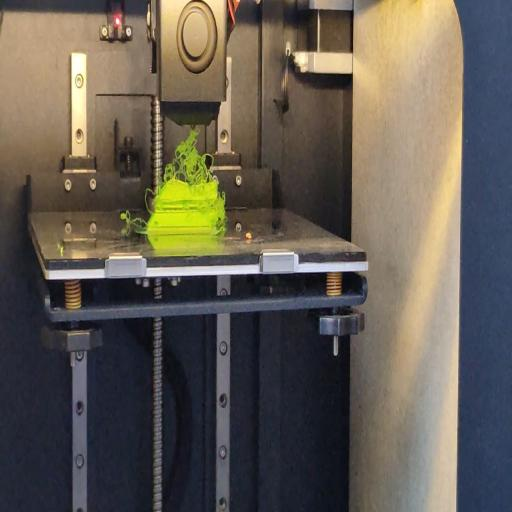spaghetti: (160, 126, 216, 184), (117, 208, 146, 230), (144, 182, 156, 214), (219, 226, 226, 235)
